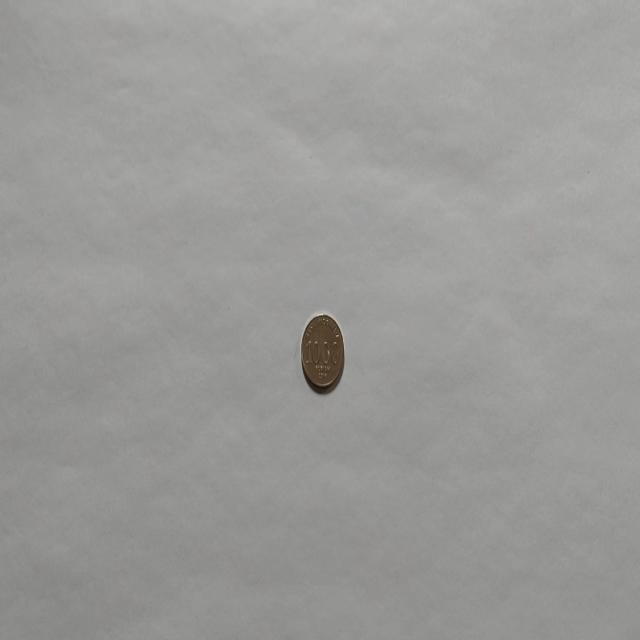seribu rupiah koin: (300, 311, 344, 393)
